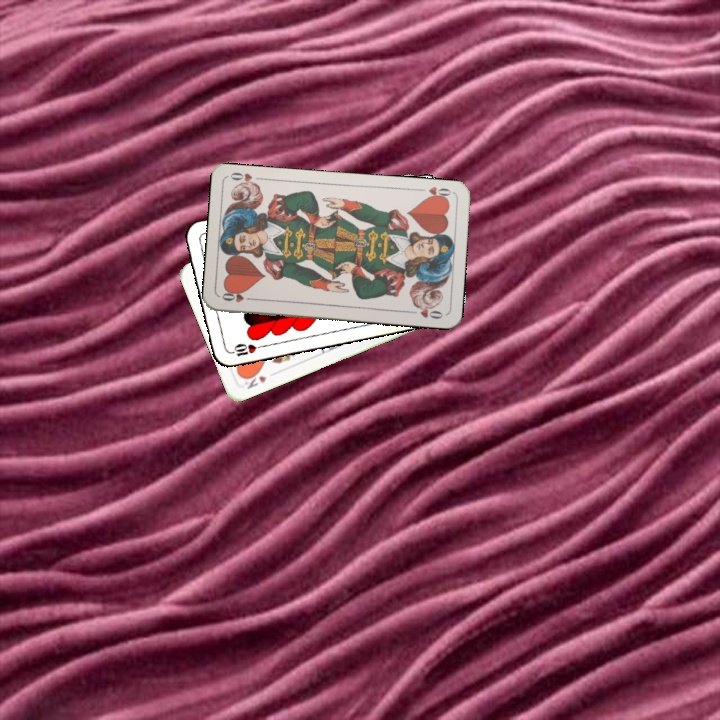H10: (225, 339, 265, 359)
HK: (239, 368, 269, 392)
HO: (218, 288, 258, 305), (421, 183, 455, 203)
